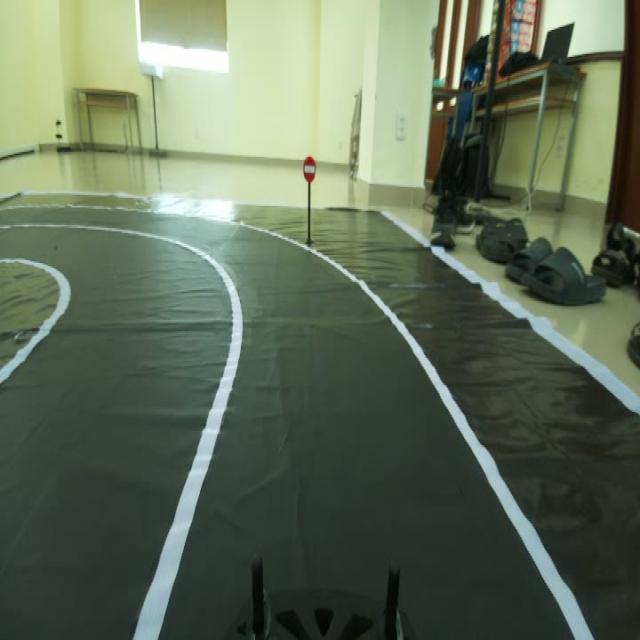no_entry: (298, 151, 322, 190)
